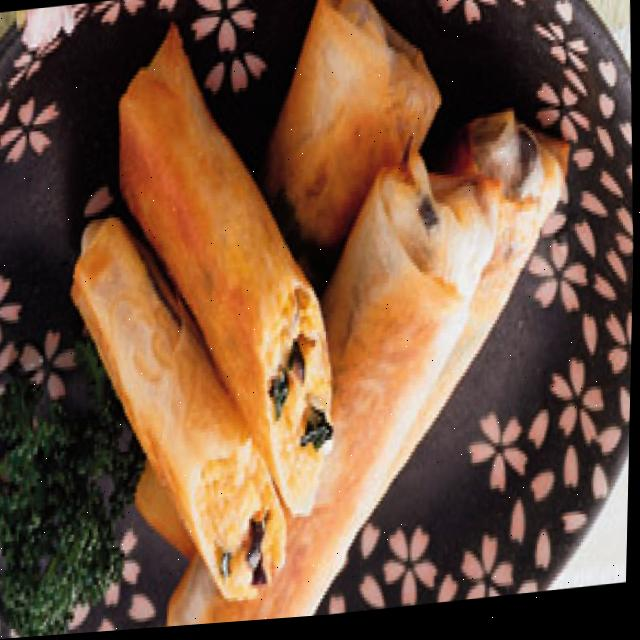鸡蛋料理: (46, 0, 590, 637)
